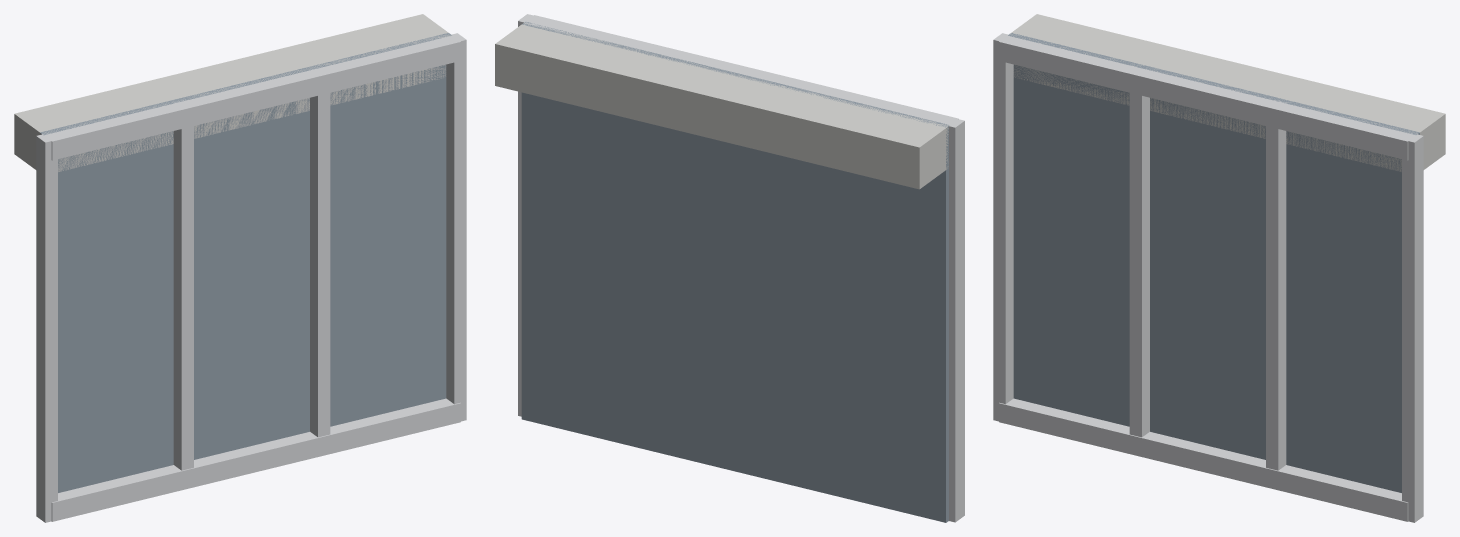
The model's file is bay_glass_office.glb.
3 views of the same model, side by side, from view 1: azimuth 30°, elevation 25°; view 2: azimuth 150°, elevation 25°; view 3: azimuth 330°, elevation 25° (orthographic). The views are drawn at different scales.
Visible parts, largest first — view 1: facade_bay_glass_office; view 2: facade_bay_glass_office; view 3: facade_bay_glass_office.
Boxes of the visible parts, bbox=[...] form: facade_bay_glass_office: bbox=[14, 14, 466, 522]; facade_bay_glass_office: bbox=[495, 14, 964, 522]; facade_bay_glass_office: bbox=[993, 14, 1445, 522].
Size of the model in its own units: 3.71 by 3.2 by 0.5802.
